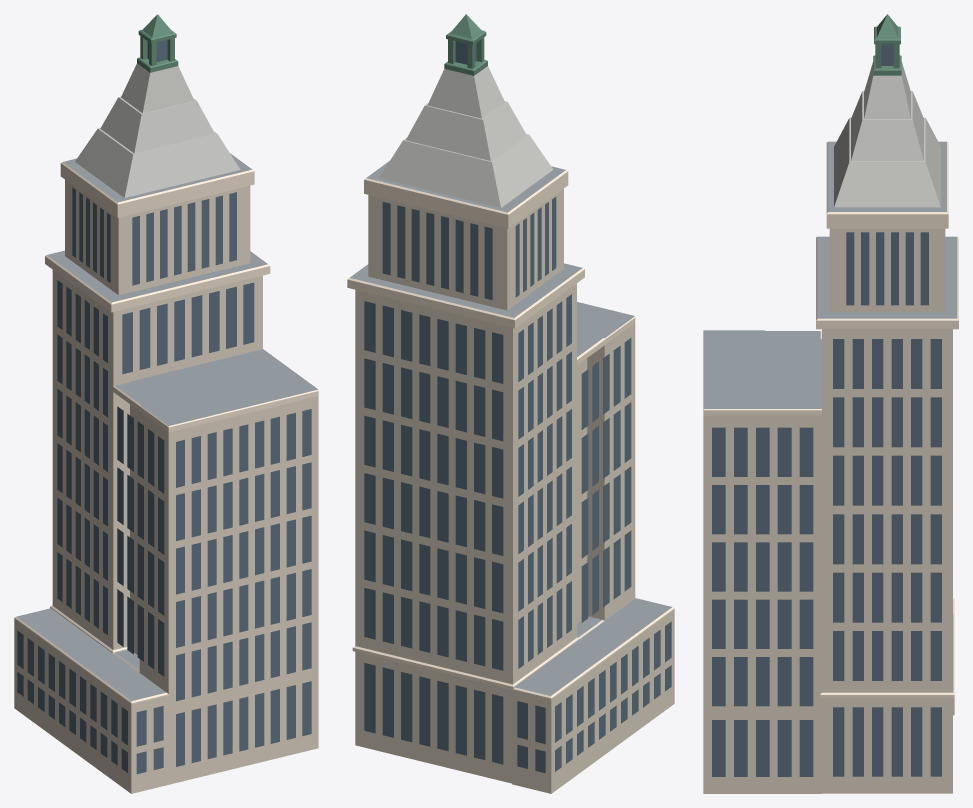
File: cin-pnc-tower.glb
3 renders of one model, left to right at view 1: azimuth 30°, elevation 25°; view 2: azimuth 150°, elevation 25°; view 3: azimuth 270°, elevation 25°, orthographic. The views are drawn at different scales.
Parts seen in each view (by area): view 1: PNC Tower; view 2: PNC Tower; view 3: PNC Tower.
Part boxes in pixels (left/top/right/bottom): PNC Tower: left=14, top=14, right=318, bottom=793; PNC Tower: left=347, top=14, right=674, bottom=793; PNC Tower: left=703, top=14, right=958, bottom=793.
Size of the model in its own units: 43.65 by 150 by 46.95.
